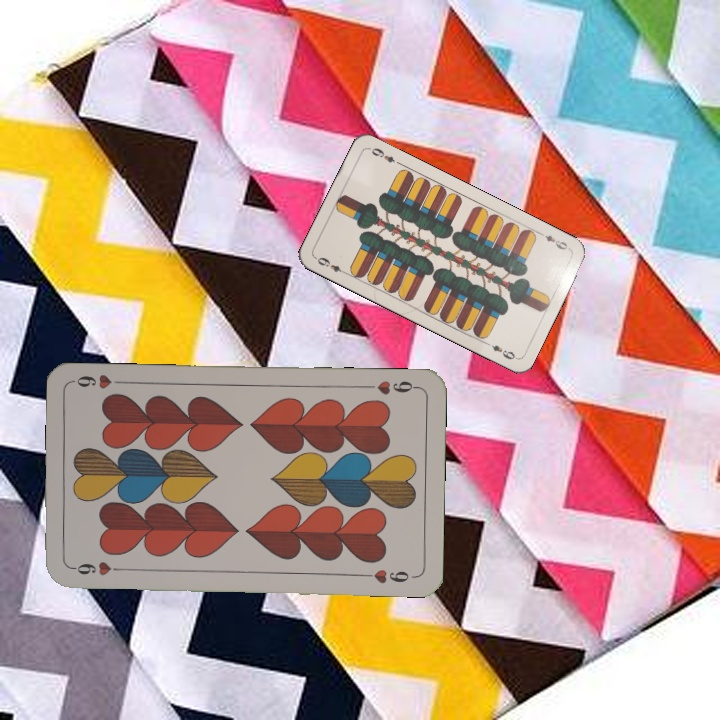E9: (312, 253, 350, 277), (541, 231, 572, 253)
H9: (361, 376, 420, 397), (68, 557, 127, 578)
